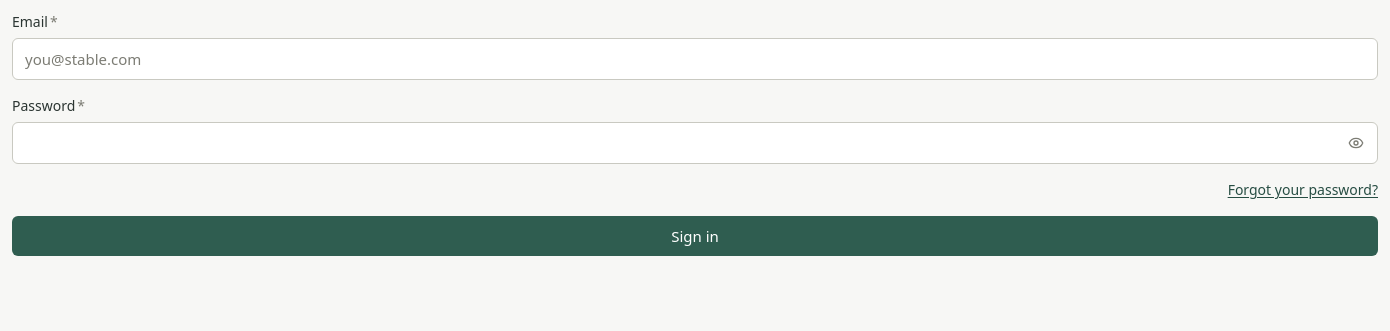
Scenario: LoginForm › surfaces a form-level error when the service rejects the credentials
Type "locked@smarthorse.test" into the field labelled "Email*" at (695, 59), box [12,38,1378,80]
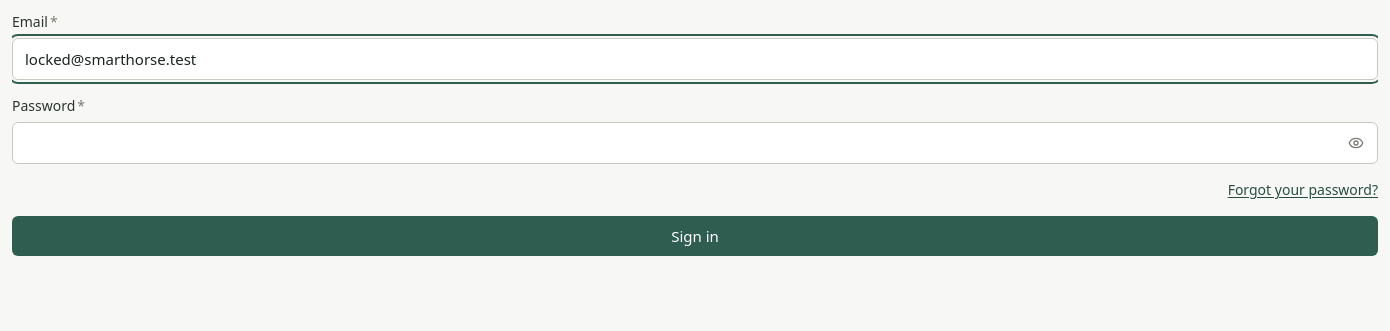
Type "password1" into the password field labelled "Password*" at (695, 143), box [12,122,1378,164]
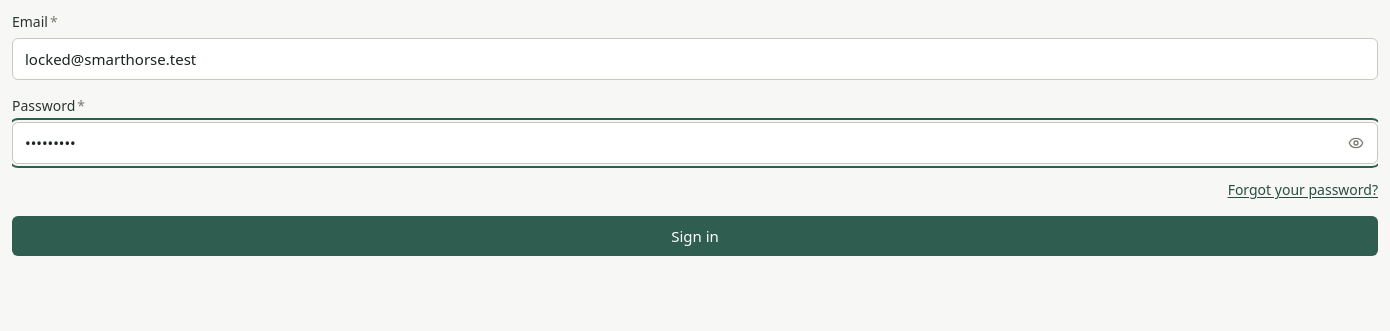
Click the button "Sign in" at (695, 236), box [12,216,1378,256]
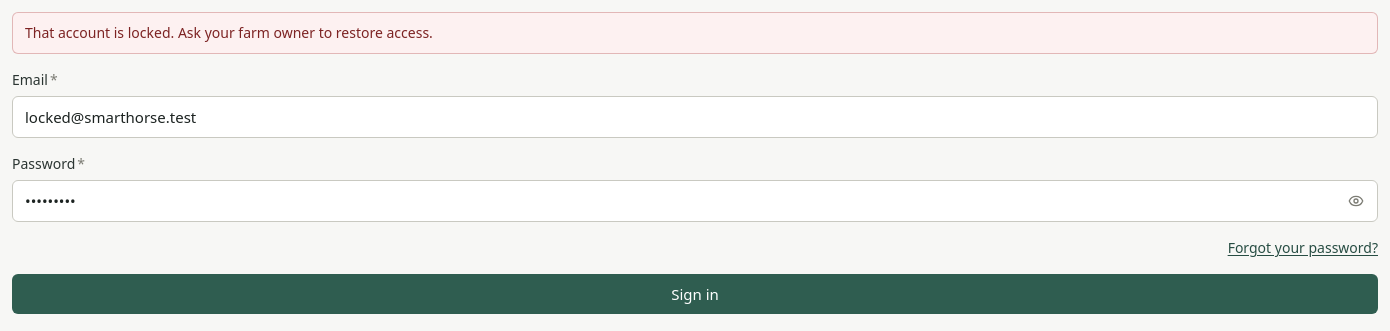
Now the message shows "locked", box [25,23,433,42]
